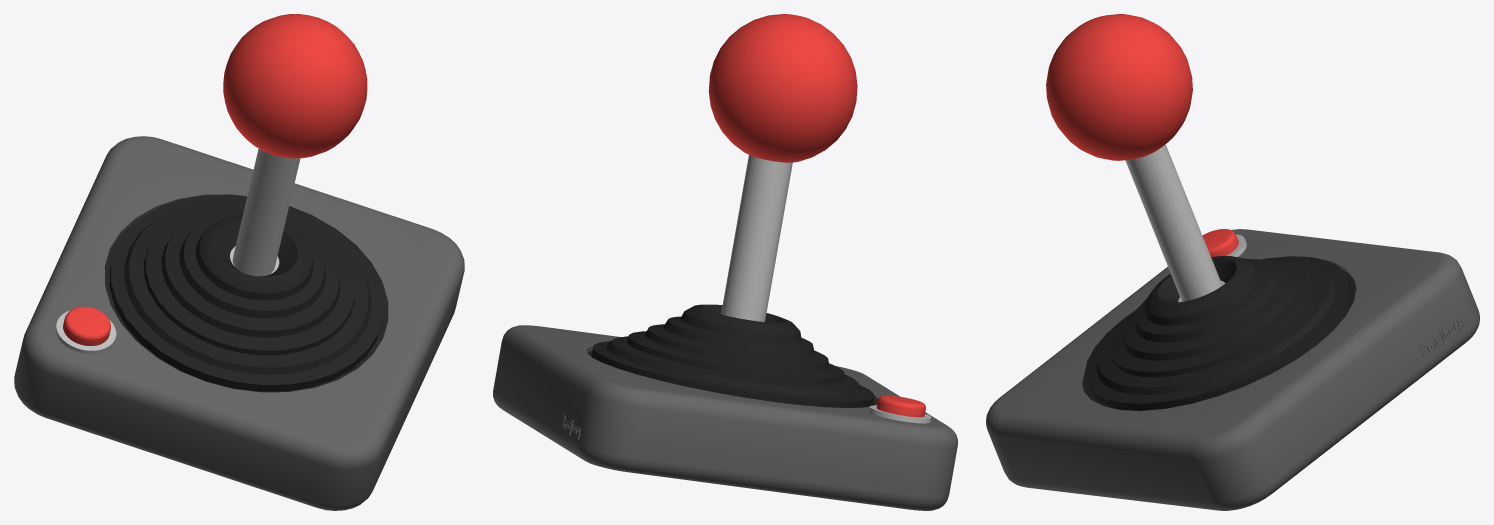
Rendered from joystick.gltf.
3 renders of one model, left to right at view 1: azimuth 30°, elevation 25°; view 2: azimuth 150°, elevation 25°; view 3: azimuth 270°, elevation 25°, orthographic. The views are drawn at different scales.
Parts seen in each view (by area): view 1: Circle.2534; view 2: Circle.2534; view 3: Circle.2534.
Boxes of the visible parts, <box> form: Circle.2534: <box>14,14,464,510</box>; Circle.2534: <box>493,14,957,510</box>; Circle.2534: <box>986,14,1479,510</box>.
Bounding box in the file's own units: 2.16 × 2.17 × 2.11.
Materials: 1 (1 with a texture image).
